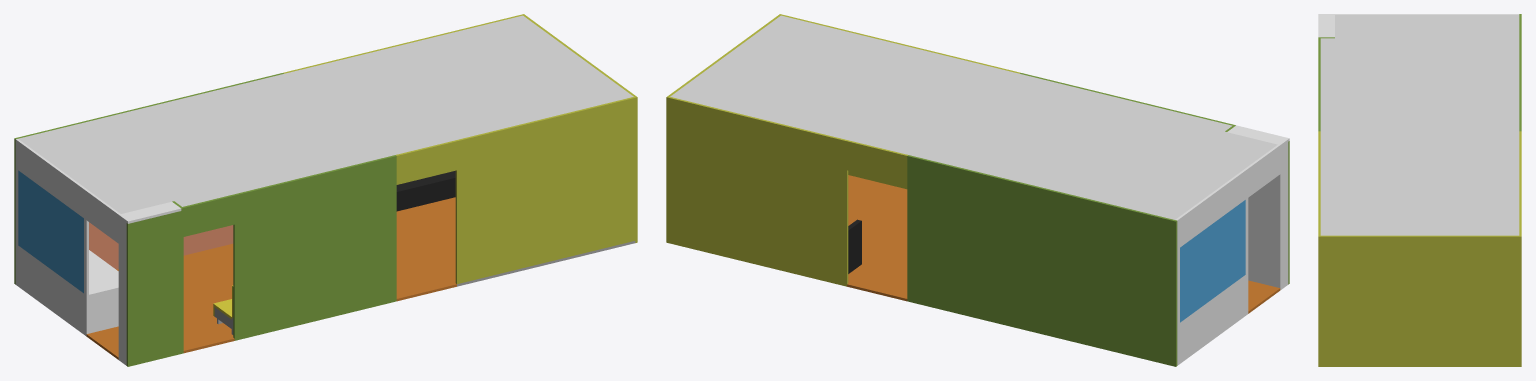
File: myroom.glb
3 renders of one model, left to right at view 1: azimuth 30°, elevation 25°; view 2: azimuth 150°, elevation 25°; view 3: azimuth 270°, elevation 25°, orthographic. The views are drawn at different scales.
Visible parts, largest first — view 1: Untitled; view 2: Untitled; view 3: Untitled.
Boxes of the visible parts, box(x1,y1,x2,y2) form: Untitled: box(14, 14, 637, 366); Untitled: box(666, 14, 1289, 366); Untitled: box(1318, 14, 1521, 366).
Size of the model in its own units: 22 by 6 by 8.5.
Materials: 1 (1 with a texture image).
